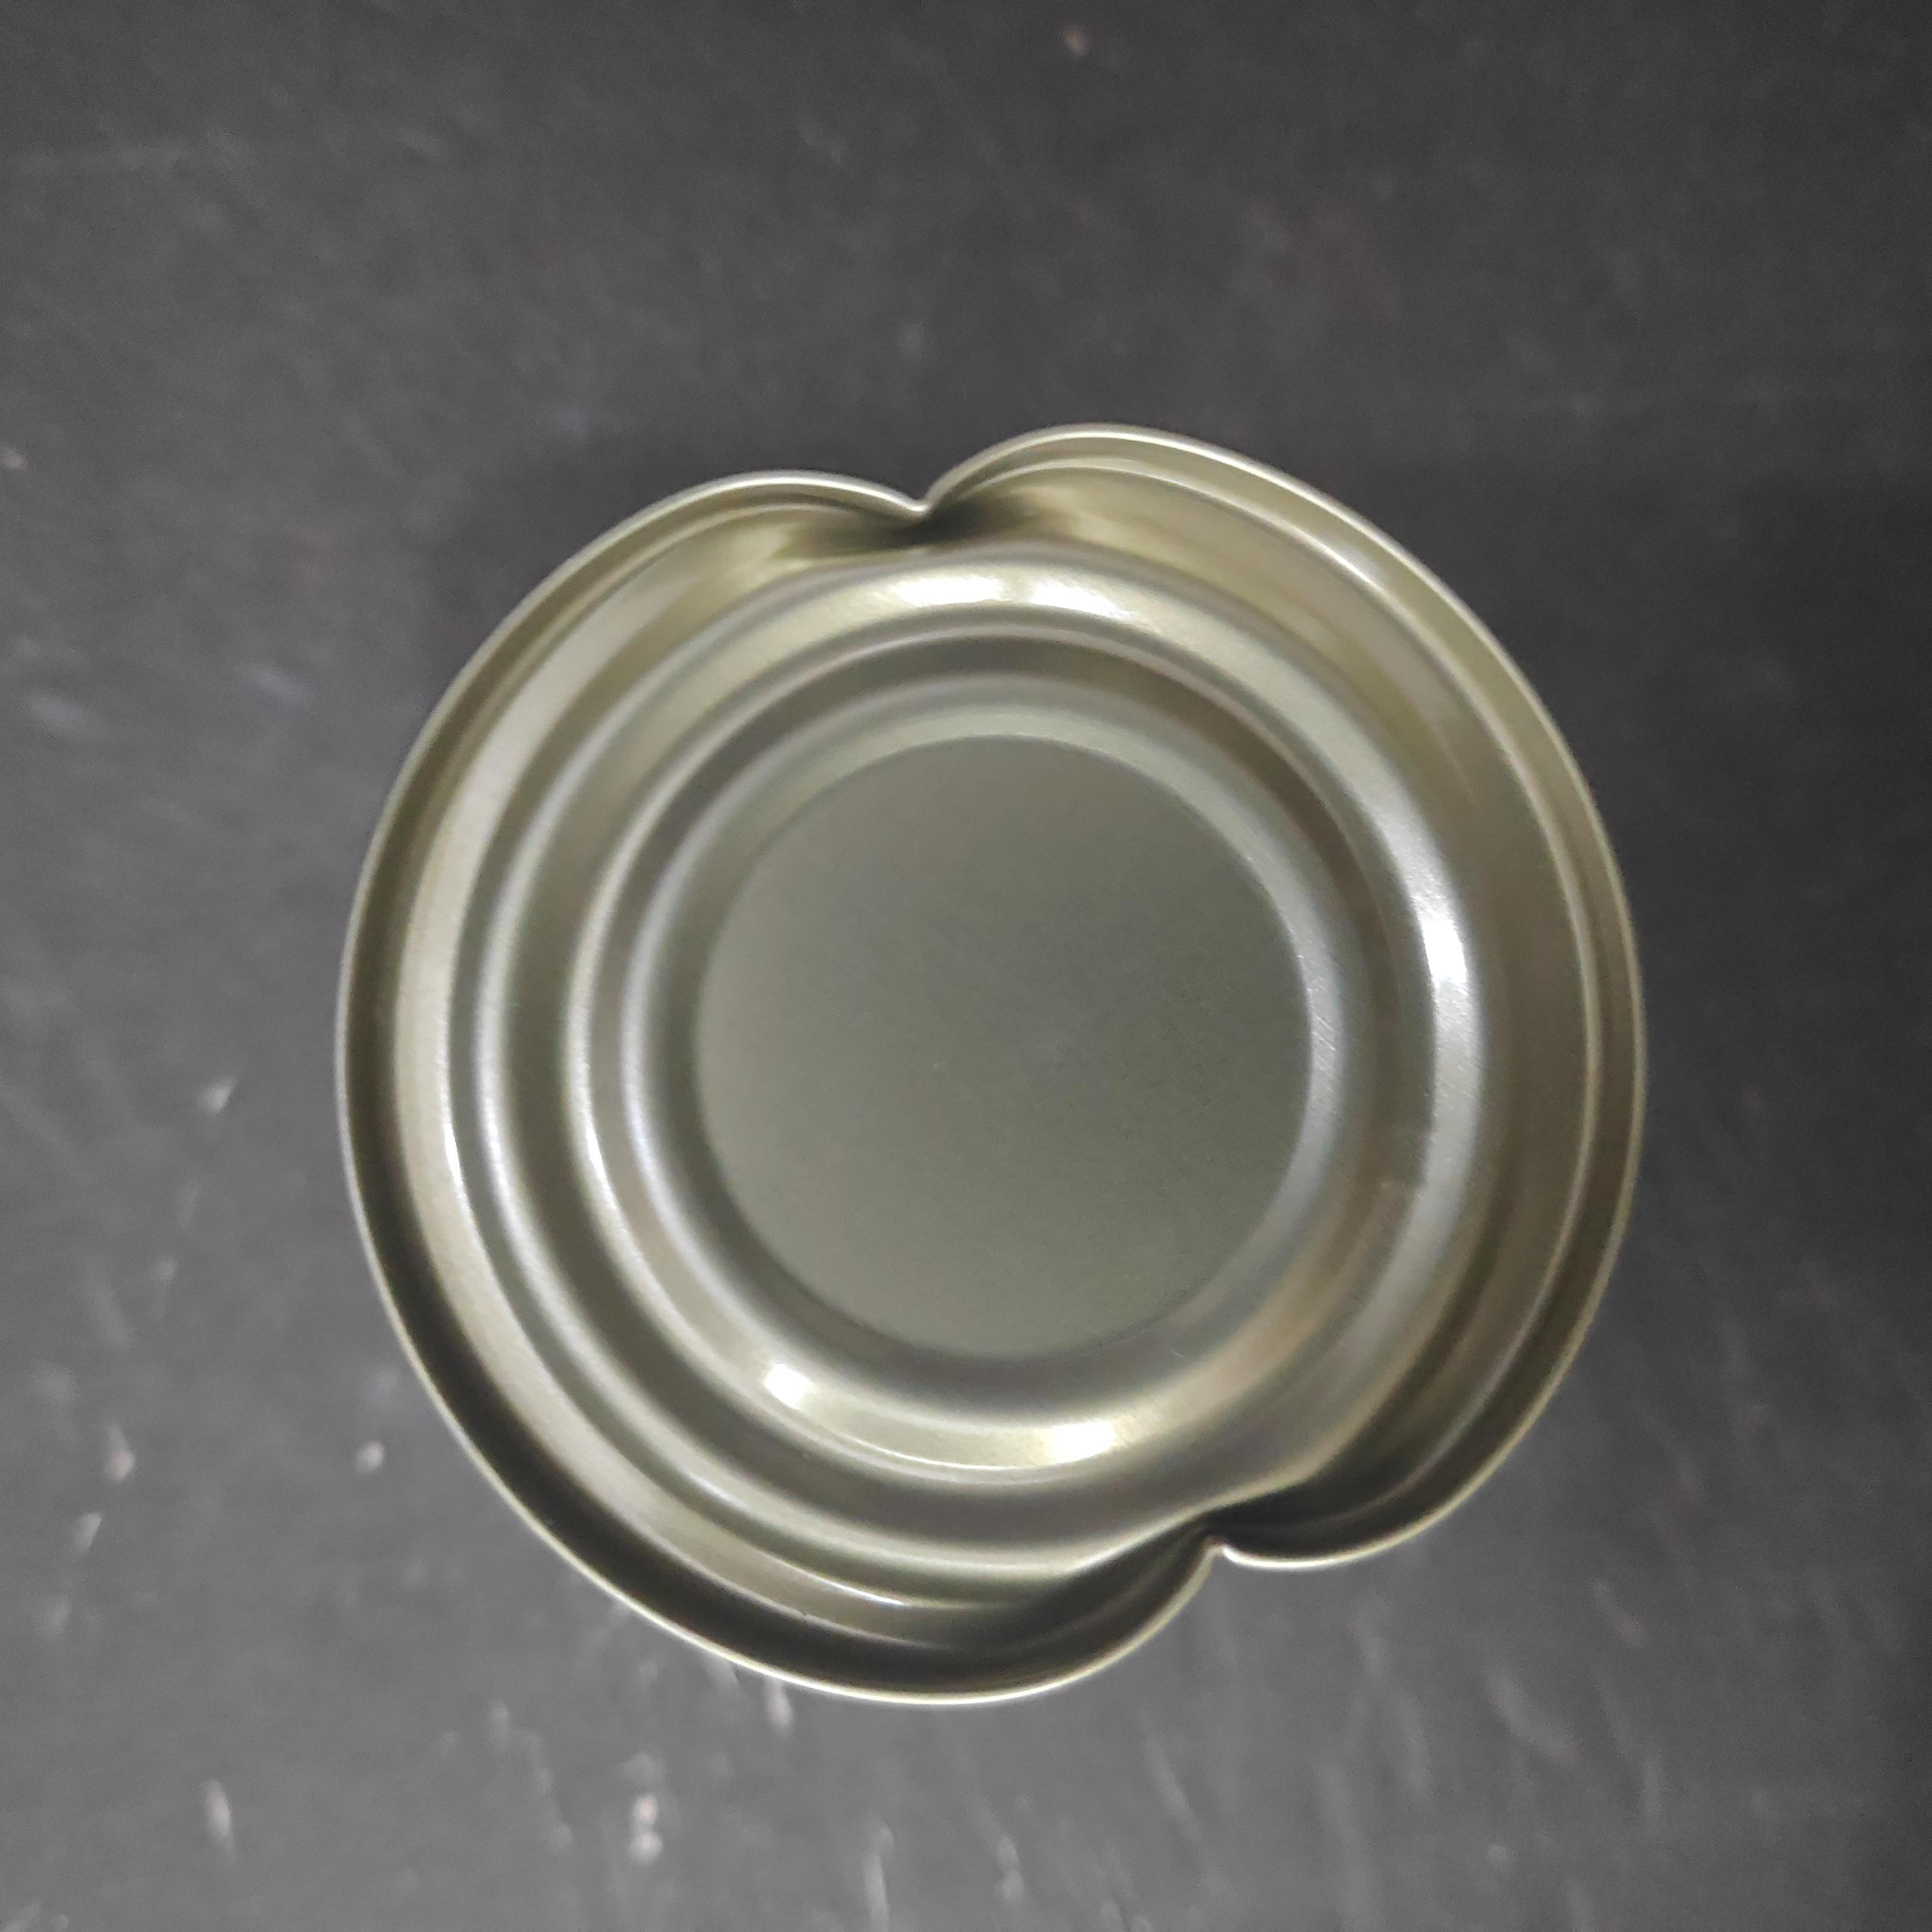Critical Defect: (216, 324, 1522, 1663)
